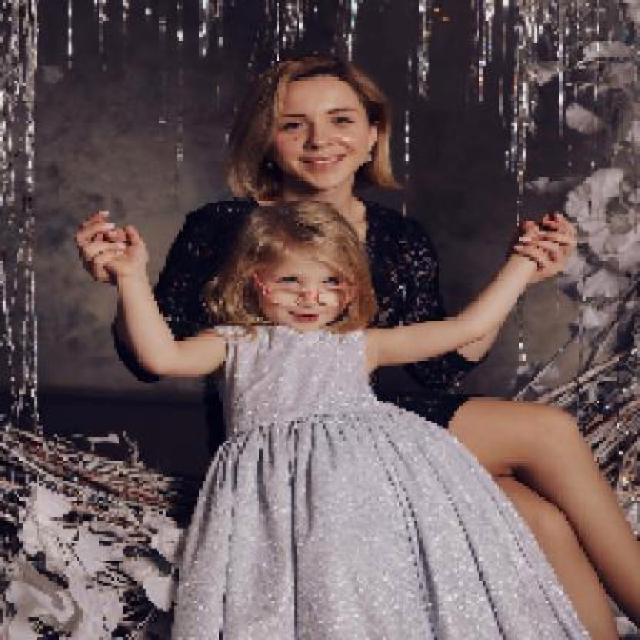child: (89, 200, 592, 637)
